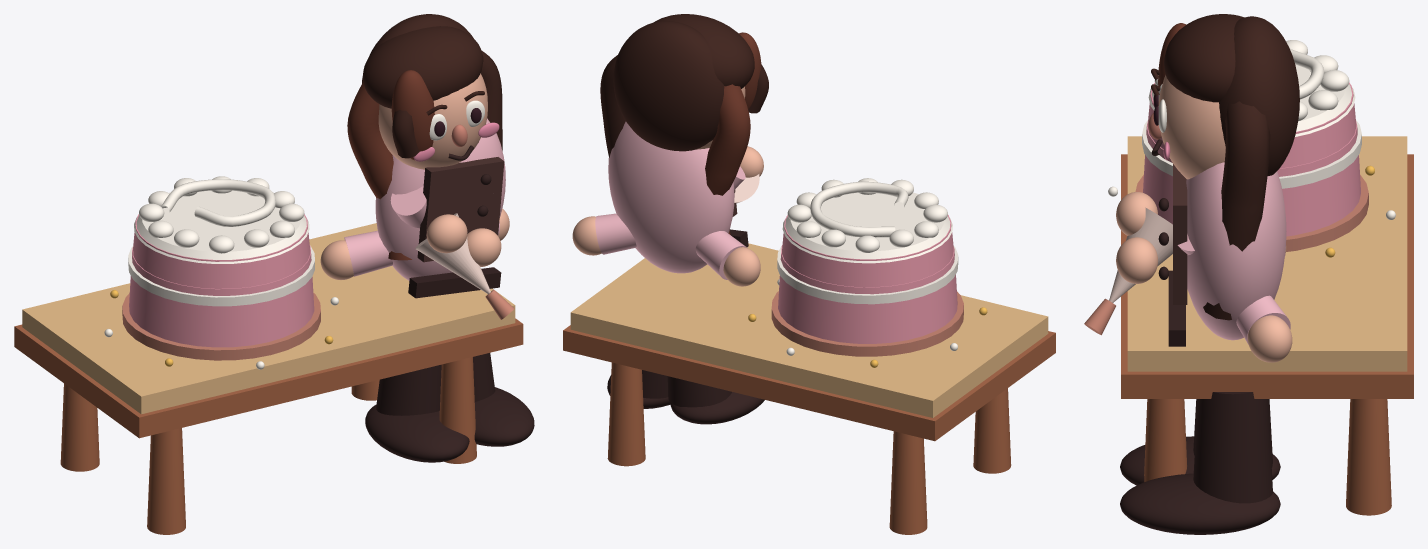
The model's file is baker-decorating-cake.glb.
3 renders of one model, left to right at view 1: azimuth 30°, elevation 25°; view 2: azimuth 150°, elevation 25°; view 3: azimuth 270°, elevation 25°, orthographic. The views are drawn at different scales.
Visible parts, largest first — view 1: Tabletop, Table_Apron, Cake_Base, Hair_Crown, Cake_Icing_Top, Cake_Top, Chocolate_Apron_Bib, Pink_Blouse, Shoe_Left, Table_Leg_3, Face, Hair_Long_Lock_Left (+19 smaller); view 2: Tabletop, Pink_Blouse, Table_Apron, Hair_Back, Cake_Base, Cake_Icing_Top, Cake_Top, Table_Leg_2, Table_Leg_1, Hair_Long_Lock_Left, Cake_Board, Hair_Crown (+12 smaller); view 3: Tabletop, Pink_Blouse, Table_Apron, Leg_Right, Hair_Back, Shoe_Right, Hair_Long_Lock_Right, Cake_Base, Hair_Crown, Table_Leg_2, Face, Table_Leg_4 (+17 smaller).
Boxes of the visible parts, box(x1,y1,x2,y2) form: Tabletop: box(22, 223, 515, 414); Table_Apron: box(14, 318, 523, 438); Cake_Base: box(129, 245, 314, 347); Hair_Crown: box(363, 26, 483, 108); Cake_Icing_Top: box(134, 190, 309, 263); Cake_Top: box(133, 214, 310, 288); Chocolate_Apron_Bib: box(417, 157, 504, 262); Pink_Blouse: box(375, 118, 505, 280); Shoe_Left: box(365, 404, 469, 462); Table_Leg_3: box(147, 428, 185, 534); Face: box(378, 73, 487, 169); Hair_Long_Lock_Left: box(347, 82, 411, 260); Tabletop: box(570, 243, 1048, 417); Pink_Blouse: box(608, 121, 734, 273); Table_Apron: box(563, 325, 1055, 441); Hair_Back: box(613, 21, 724, 151); Cake_Base: box(778, 245, 957, 343); Cake_Icing_Top: box(782, 192, 952, 263); Cake_Top: box(782, 215, 953, 287); Table_Leg_2: box(607, 362, 645, 466); Table_Leg_1: box(889, 431, 927, 534); Hair_Long_Lock_Left: box(705, 84, 750, 234); Cake_Board: box(771, 291, 963, 356); Hair_Crown: box(653, 14, 754, 88); Tabletop: box(1127, 136, 1407, 371); Pink_Blouse: box(1186, 162, 1286, 340); Table_Apron: box(1121, 154, 1413, 398); Leg_Right: box(1193, 392, 1272, 503); Hair_Back: box(1219, 16, 1299, 175); Shoe_Right: box(1120, 473, 1280, 534); Hair_Long_Lock_Right: box(1203, 101, 1270, 320); Cake_Base: box(1143, 121, 1360, 236); Hair_Crown: box(1164, 14, 1244, 102); Table_Leg_2: box(1346, 399, 1391, 515); Face: box(1158, 75, 1225, 179); Table_Leg_4: box(1144, 399, 1186, 481).
Size of the model in its own units: 3.06 by 2.78 by 1.72.
